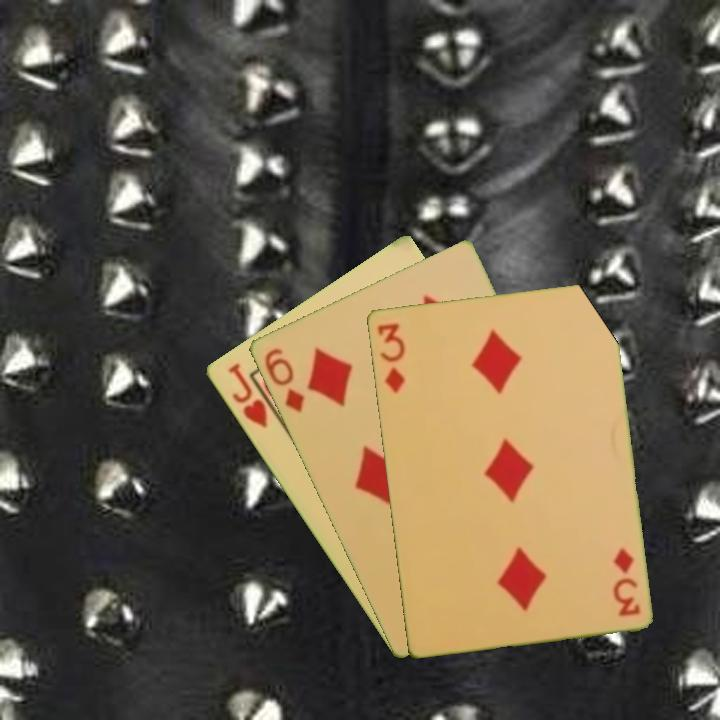3d: (373, 319, 408, 395), (610, 544, 643, 619)
6d: (260, 344, 307, 415)
Jh: (223, 359, 284, 431)
